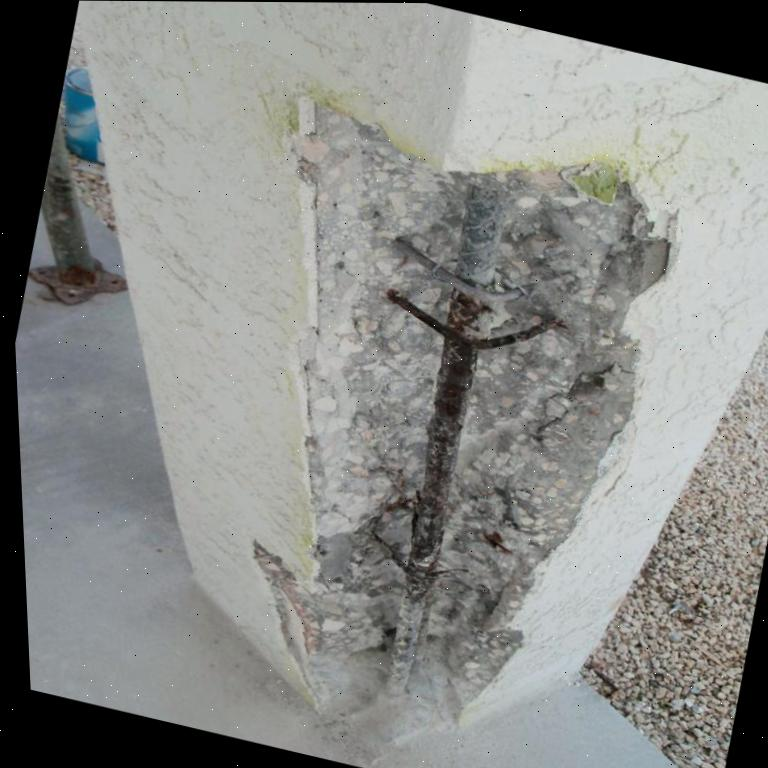exposed_rebar: (385, 179, 559, 695)
spalling: (288, 102, 667, 732)
